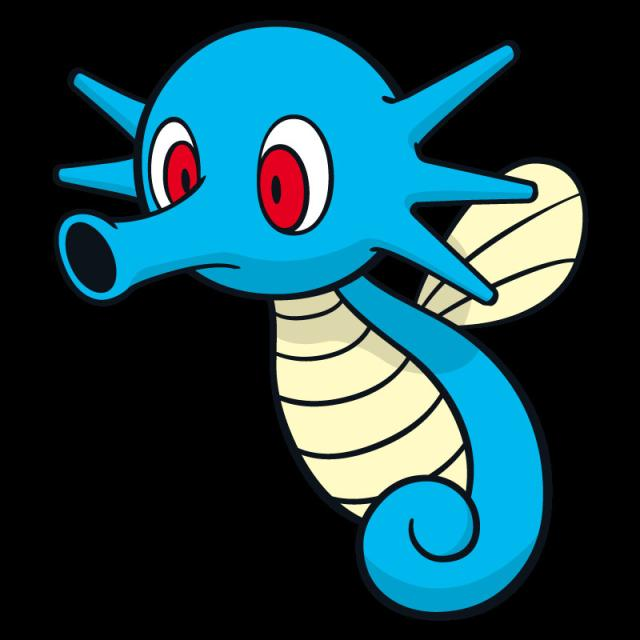Horsea: (55, 10, 587, 629)
